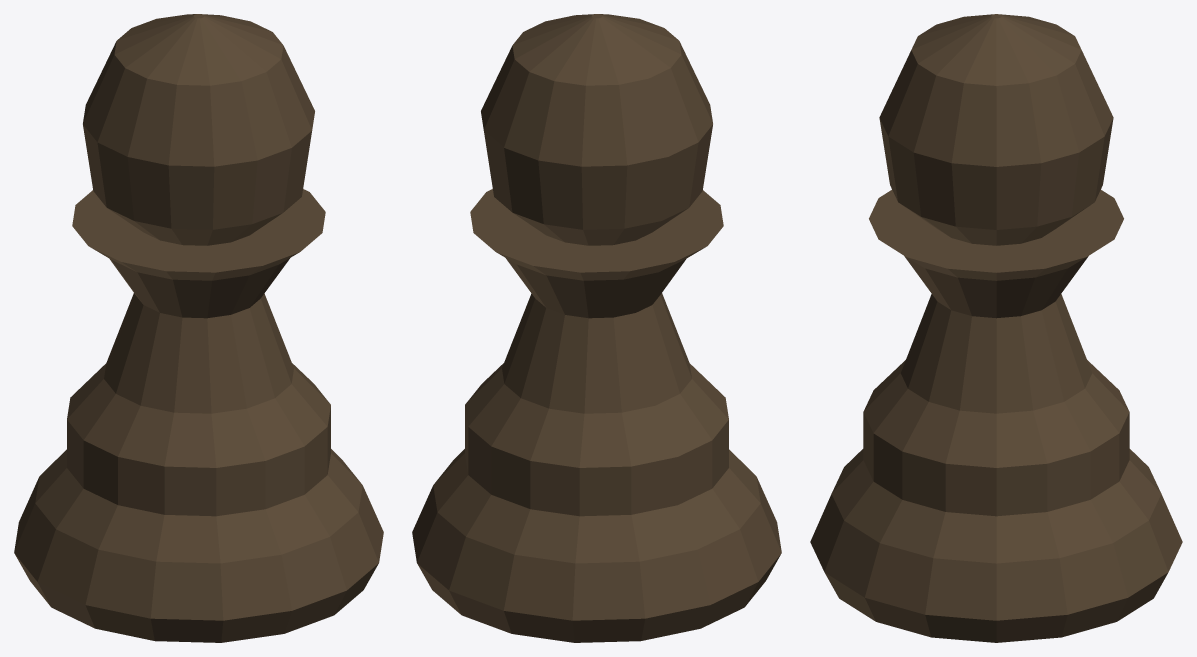
Rendered from SM_IntellectualGrandpaHouse_Chess_Black_Pawn.fbx.
3 views of the same model, side by side, from view 1: azimuth 30°, elevation 25°; view 2: azimuth 150°, elevation 25°; view 3: azimuth 270°, elevation 25° (orthographic).
Visible parts, largest first — view 1: SM_IntellectualGrandpaHouse_Chess_Black_Pawn; view 2: SM_IntellectualGrandpaHouse_Chess_Black_Pawn; view 3: SM_IntellectualGrandpaHouse_Chess_Black_Pawn.
Boxes of the visible parts, x1,y1,x2,y2 form: SM_IntellectualGrandpaHouse_Chess_Black_Pawn: [14, 14, 383, 642]; SM_IntellectualGrandpaHouse_Chess_Black_Pawn: [412, 14, 781, 642]; SM_IntellectualGrandpaHouse_Chess_Black_Pawn: [810, 14, 1182, 642].
Size of the model in its own units: 7 by 7 by 11.5.
